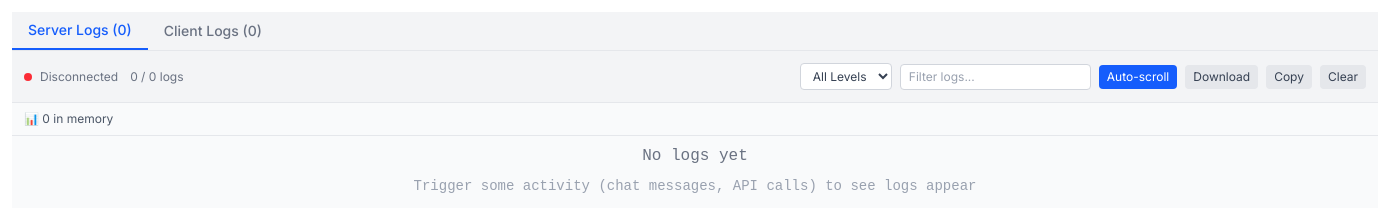
it: LogViewer Component Tests › tabs › switches active tab on click
Expected: the button "Server Logs (0)" is shown, [12,12,148,50]
Click the button "Client Logs (0)" at {"x": 213, "y": 31}, box [148,12,278,50]
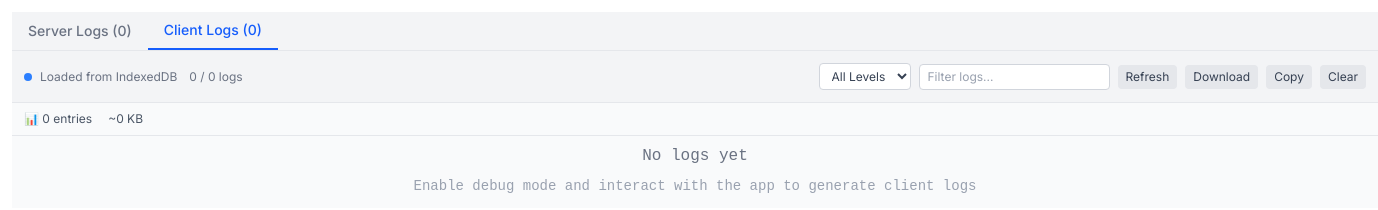
Result: the text "Loaded from IndexedDB" is shown at [40,68,177,84]
